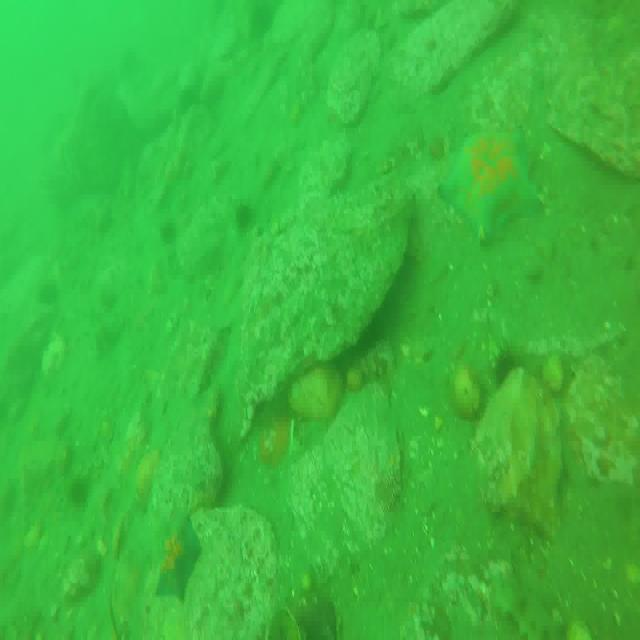echinus: (235, 198, 261, 233), (66, 474, 89, 509), (155, 217, 181, 244)
starfish: (436, 131, 542, 246), (155, 520, 202, 604)
